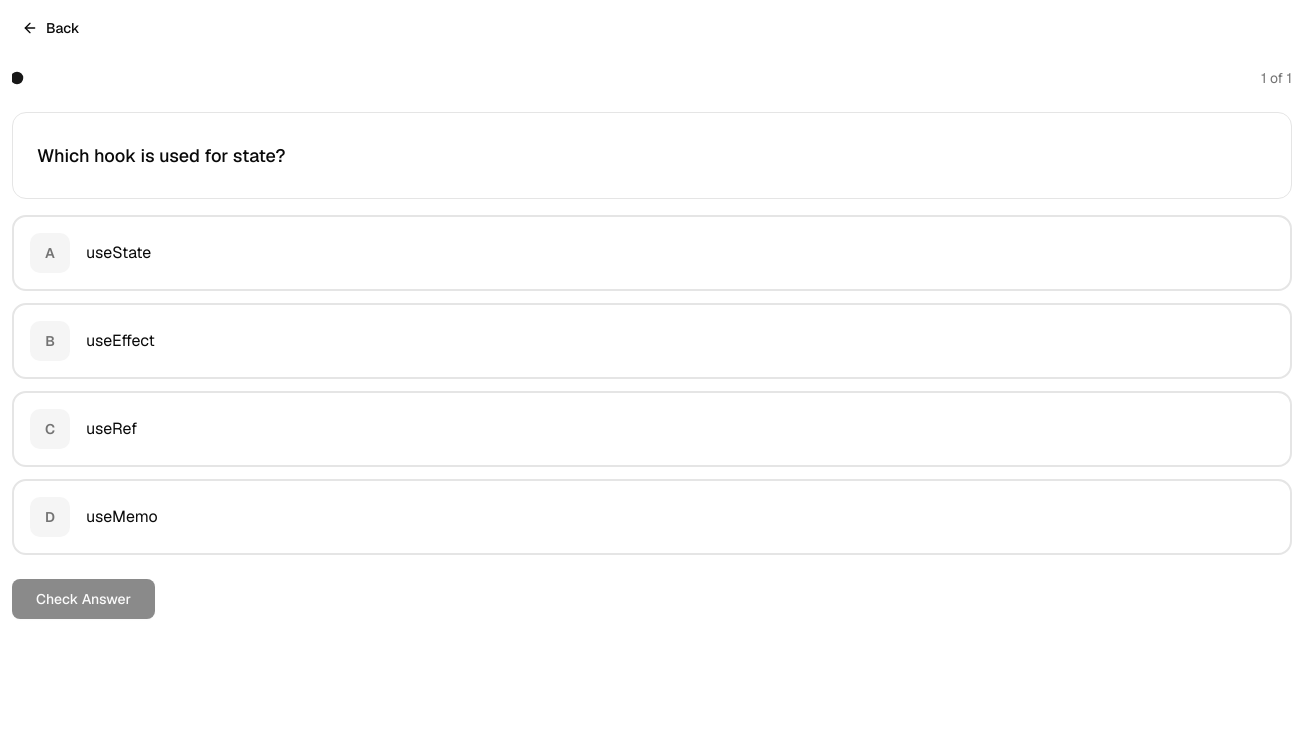
Test: MixedInterface › question item › enables Check Answer button after selecting an option
Expected: the button "Check Answer" is disabled, [12,579,155,619]
Click the text "useState": (119, 253) [86,242,151,263]
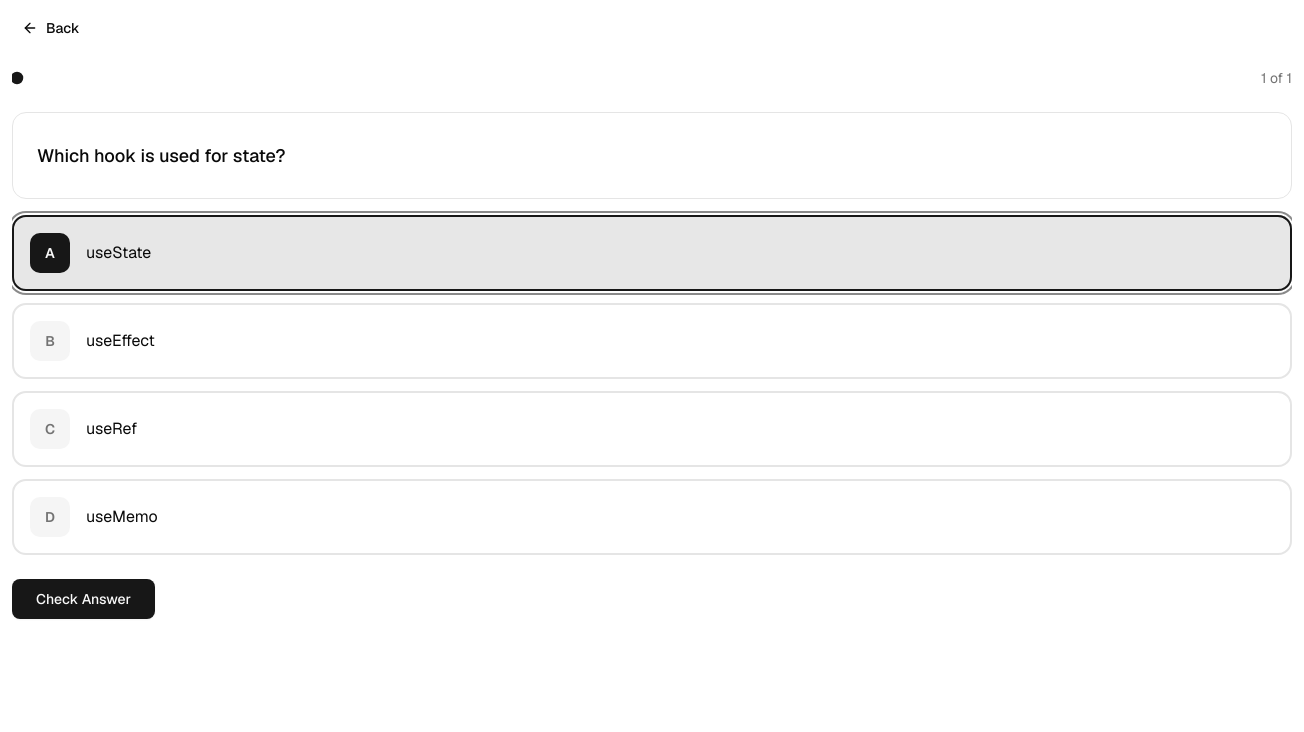
Result: the button "Check Answer" is enabled at [12,579,155,619]
